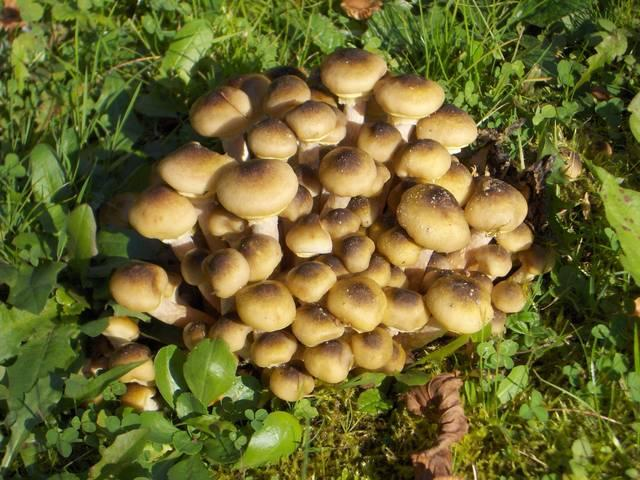Edible Mushroom: (92, 46, 557, 407)
